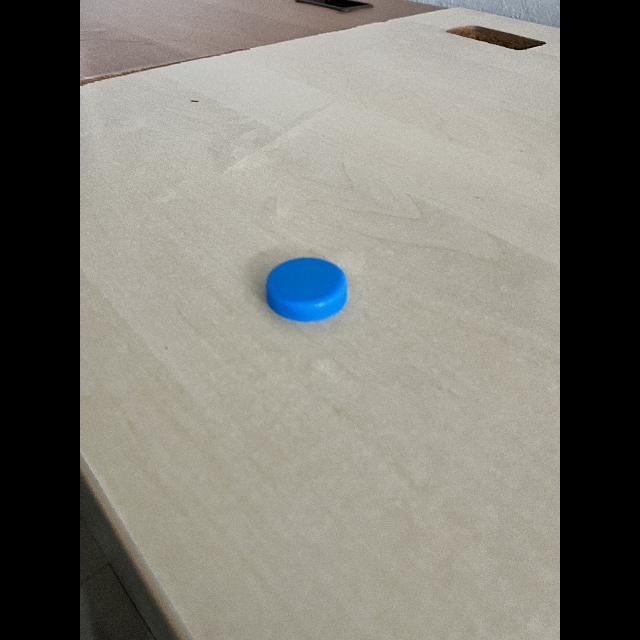plastic_bottle_cap: (258, 246, 354, 330)
